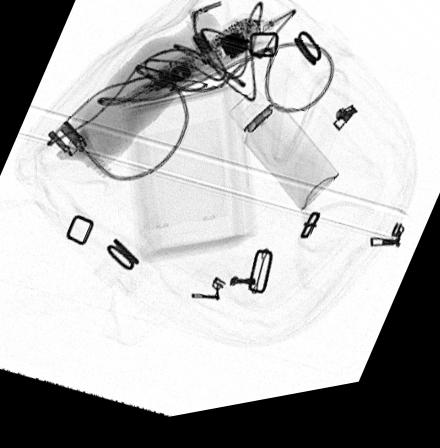Sprayer: (227, 98, 340, 223)
